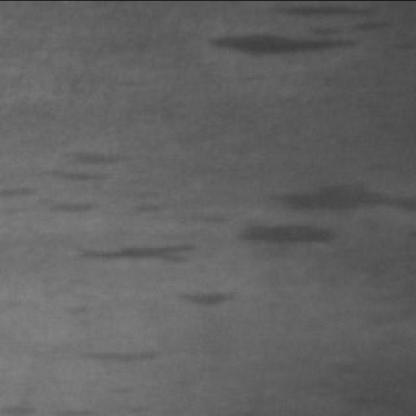inclusion: (198, 23, 368, 71), (266, 177, 416, 227), (42, 140, 128, 226), (75, 231, 206, 279), (237, 221, 343, 266), (71, 337, 175, 379), (170, 279, 245, 324)
